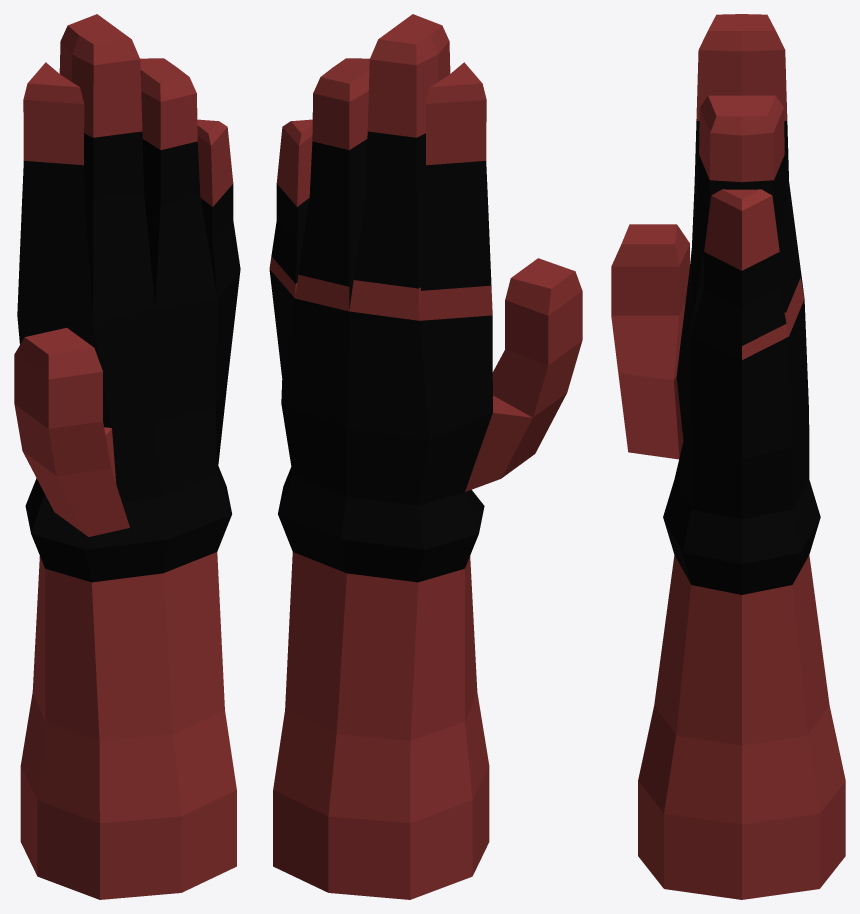
Rendered from HandModel1.fbx.
The picture shows the model from 3 angles, left to right: view 1: azimuth 30°, elevation 25°; view 2: azimuth 150°, elevation 25°; view 3: azimuth 270°, elevation 25°; orthographic projection.
Parts seen in each view (by area): view 1: Hand; view 2: Hand; view 3: Hand.
Part boxes in pixels (box(x1,y1,x2,y2)): Hand: box(14, 14, 240, 899); Hand: box(269, 14, 582, 899); Hand: box(611, 14, 845, 899).
Bounding box in the file's own units: 345 × 1086 × 282.
